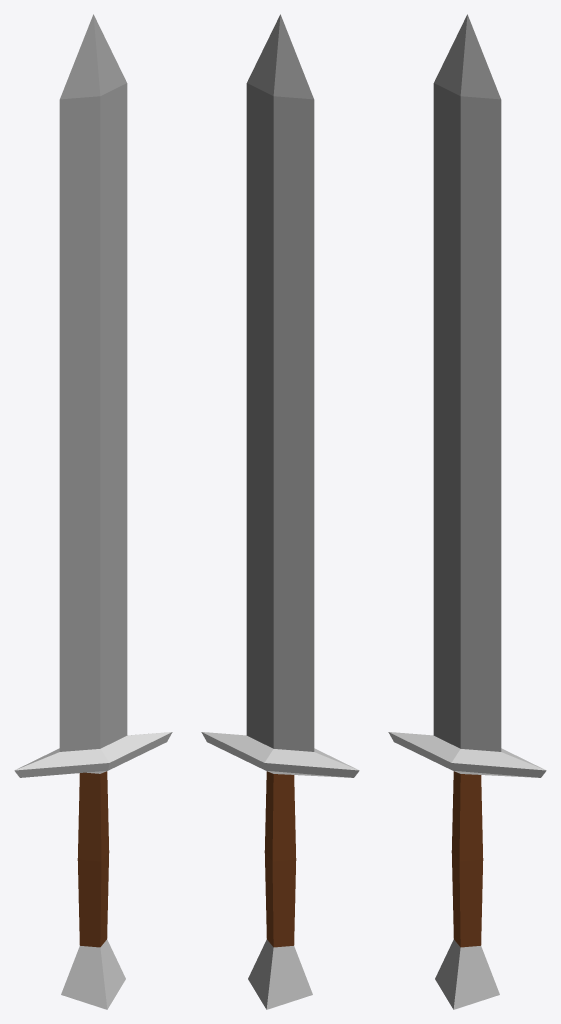
The model's file is Sword2star.fbx.
3 views of the same model, side by side, from view 1: azimuth 30°, elevation 25°; view 2: azimuth 150°, elevation 25°; view 3: azimuth 330°, elevation 25° (orthographic).
Parts seen in each view (by area): view 1: Cylinder; view 2: Cylinder; view 3: Cylinder.
Part boxes in pixels (<box>): Cylinder: <box>14,14,172,1009</box>; Cylinder: <box>201,14,359,1009</box>; Cylinder: <box>388,14,546,1009</box>.
Bounding box in the file's own units: 233 × 1383 × 81.62.
